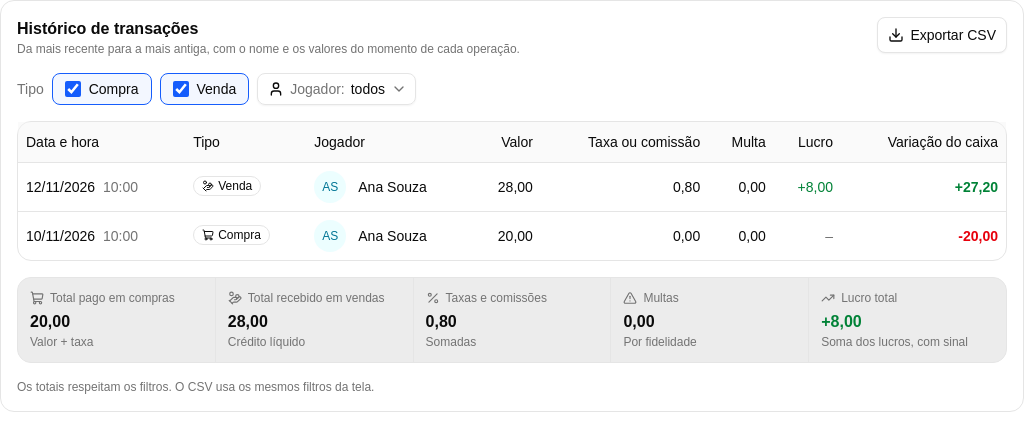
Test: HistoricoDoClube › mostra o message quando a API recusa o filtro (H05)
Check: the number of rows is 3, box [18,122,1006,162]; [18,162,1006,211]; [18,211,1006,260]
Click the checkbox labelled "Compra" at (73, 89), box [65,81,81,97]
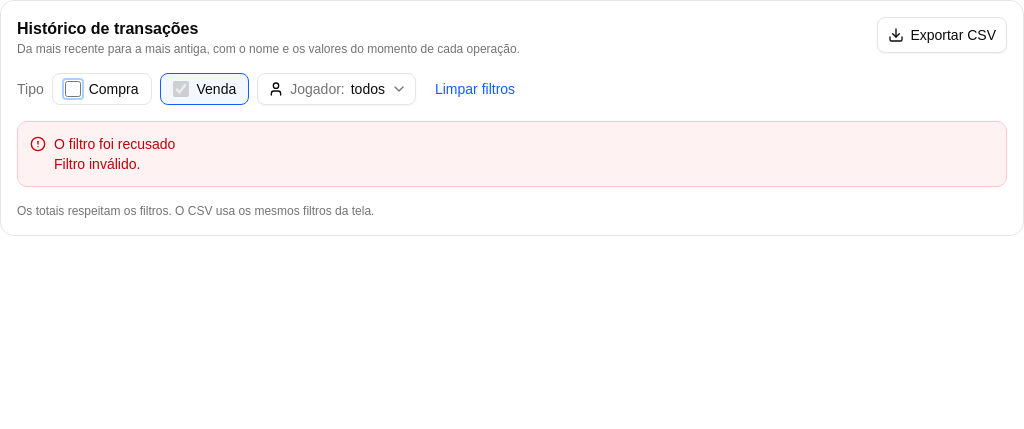
Check: the text "Filtro inválido." is shown, box [54,156,140,172]
Check: the table is gone
